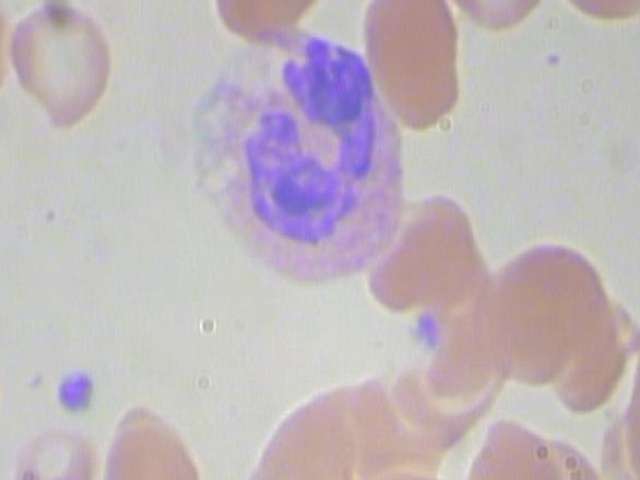Platelets: (44, 362, 101, 417), (407, 302, 445, 352)
RBC: (6, 0, 120, 138), (355, 0, 470, 131), (491, 240, 607, 367), (239, 396, 360, 480), (95, 396, 208, 480), (462, 408, 566, 480), (0, 424, 109, 480), (422, 0, 555, 41), (204, 0, 330, 38), (547, 0, 640, 31)
WBC: (162, 18, 409, 293)
